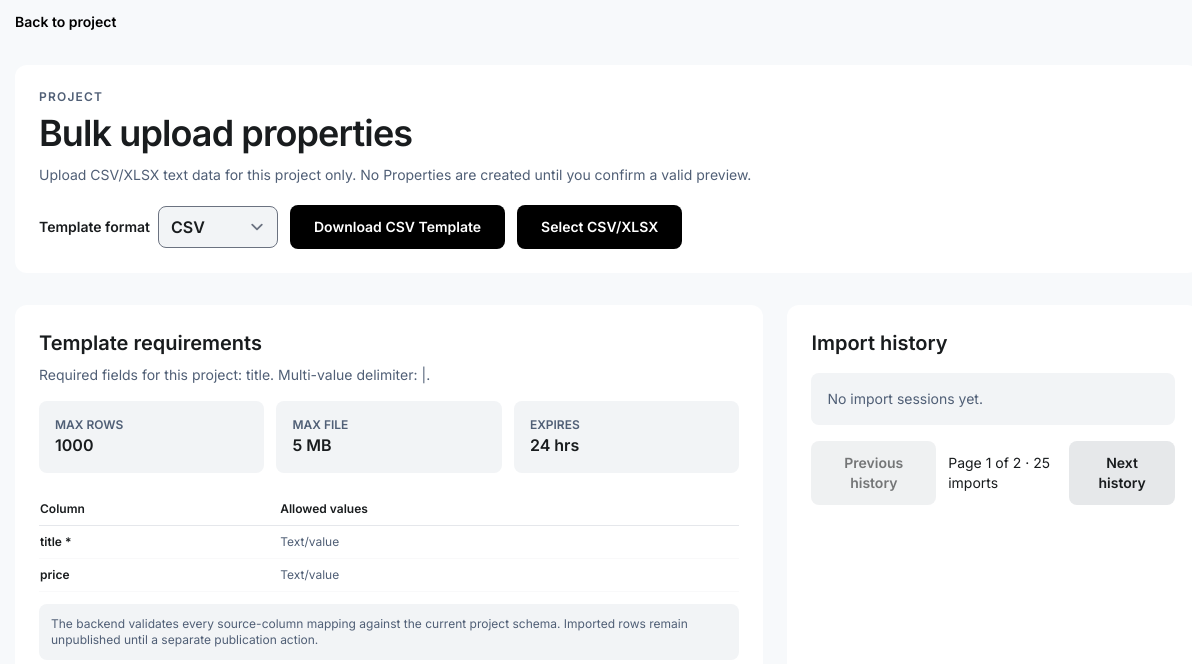
project property import flow › pages through the documented project import history
The width and height of the screenshot is (1192, 664).
Expected: the text "Page 1 of 2 · 25 imports" is shown, x1=948 y1=453 x2=1057 y2=493
Click the button "Next history".
click(1122, 473)  # box x1=1069 y1=441 x2=1175 y2=505
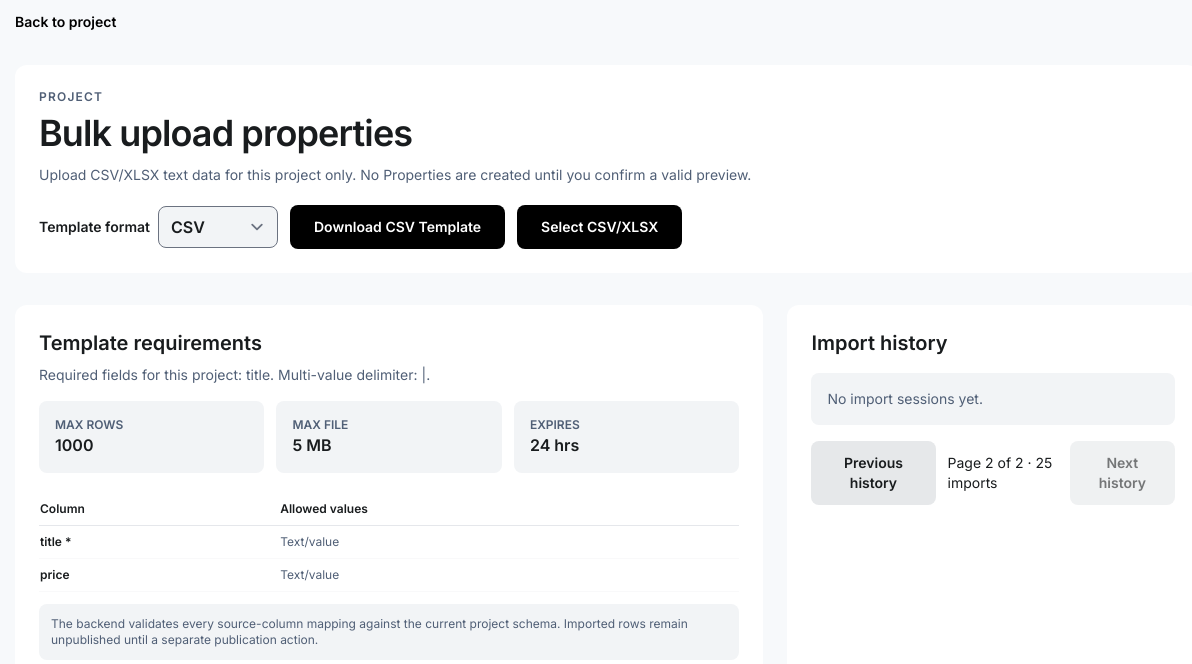
Result: the text "Page 2 of 2 · 25 imports" is shown at x1=948 y1=453 x2=1058 y2=493
